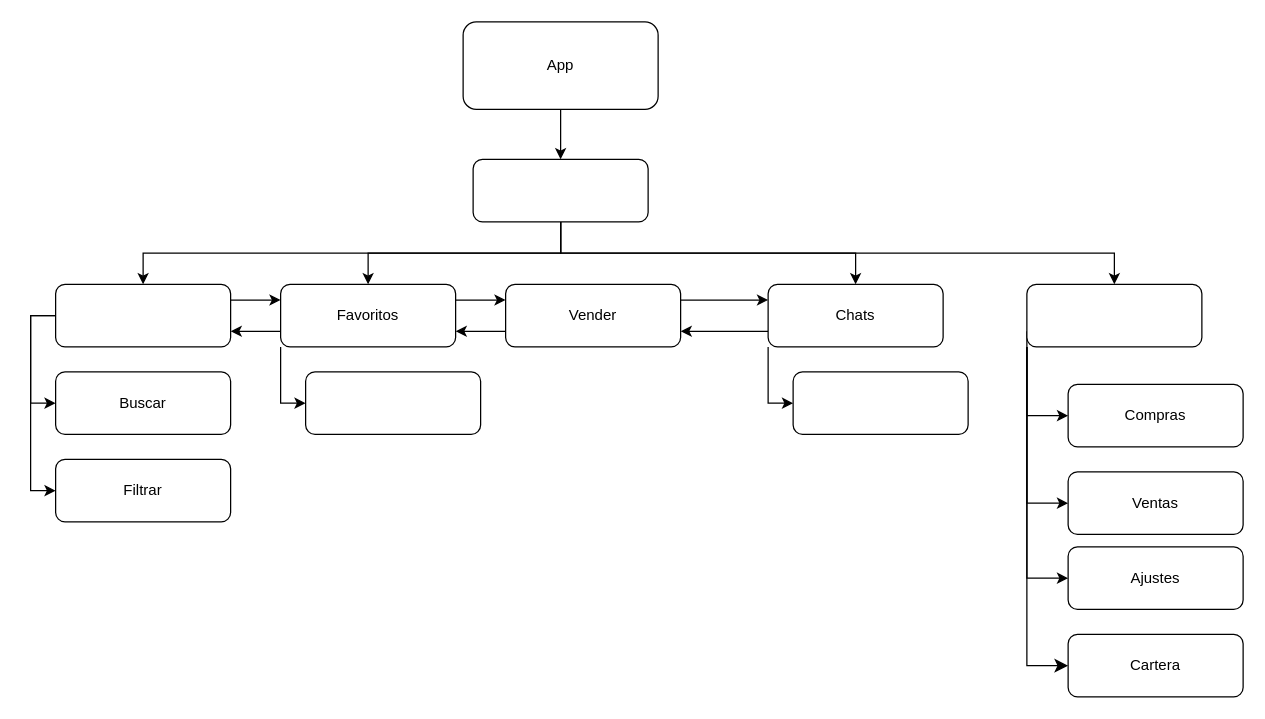
The diagram is 1265 pixels wide and 719 high, and some of its shapes have lost their labels. Each missing label, with the box of its shape:
Home: (54, 283, 231, 347)
Login: (472, 158, 648, 222)
Mensajes: (792, 371, 968, 434)
Perfil: (1026, 283, 1202, 347)
Productos favs: (304, 371, 481, 434)
